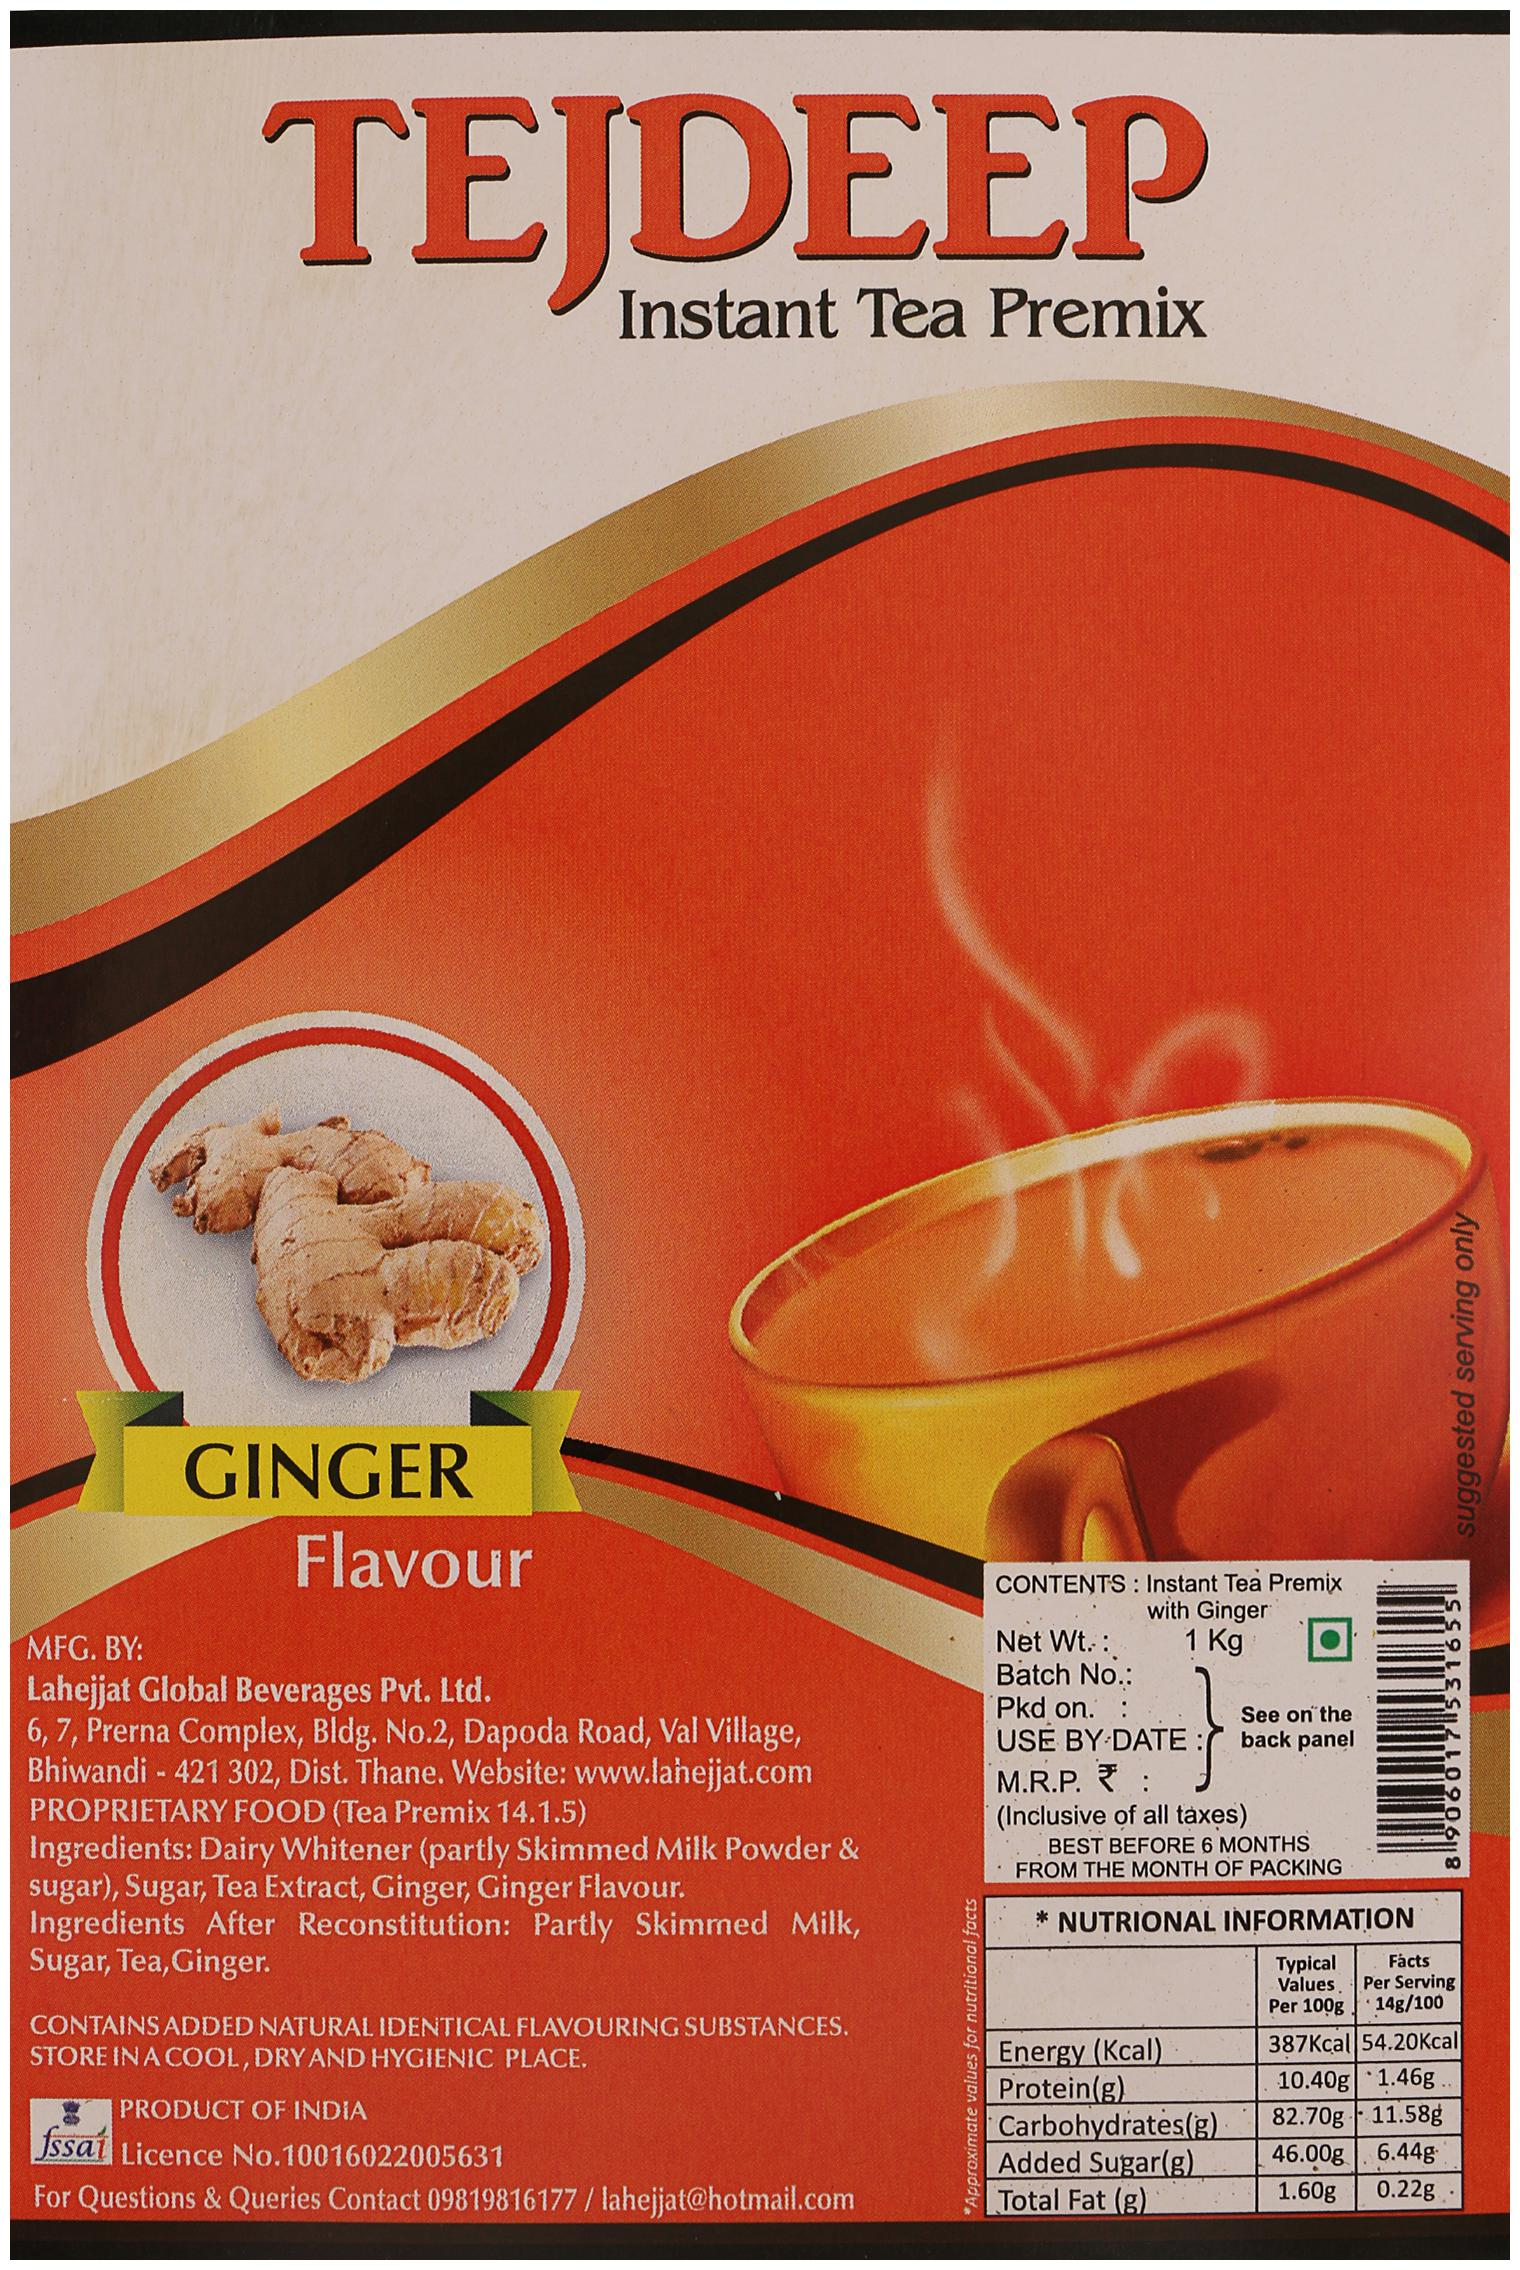fssai: (34, 2126, 110, 2161)
